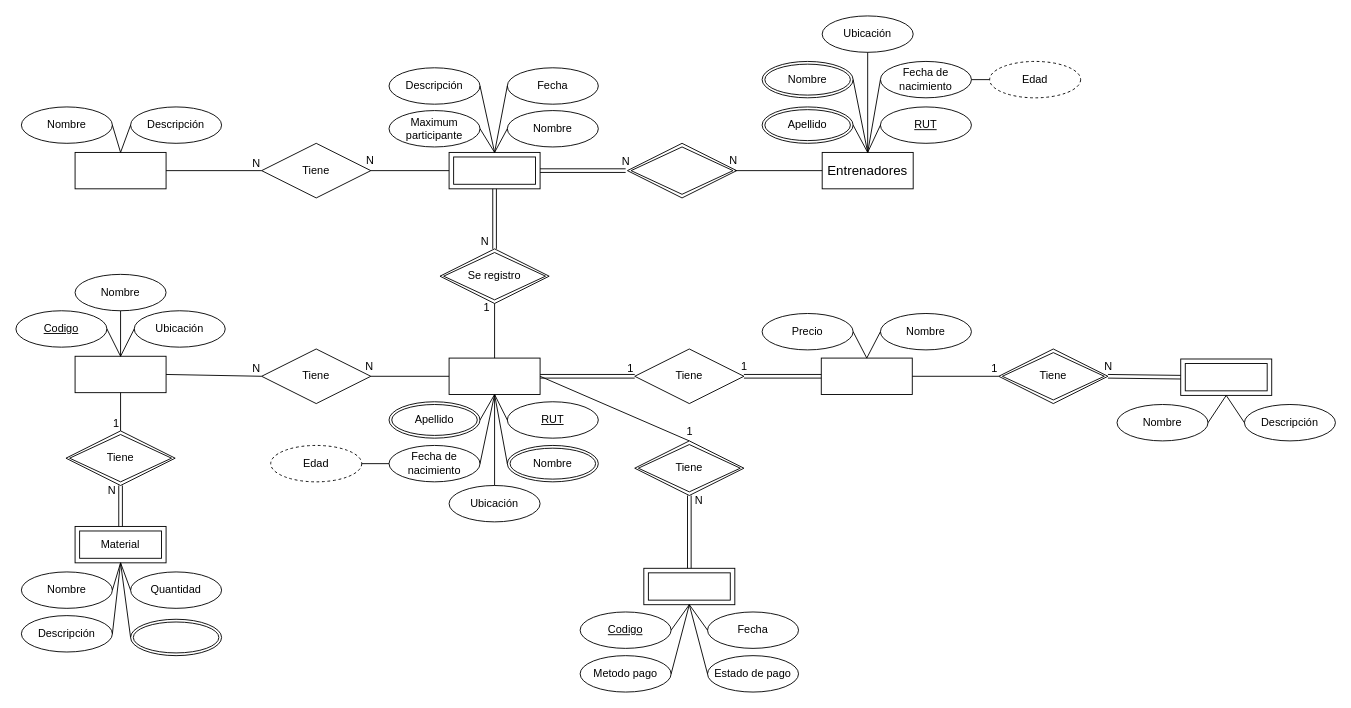
Some shapes in this 1351 by 708 pixel diagram are drawn without their labels. The shapes that lost their labels are listed below. From the top down, each one's centre as x and y in pixels, then its label:
At (120,170): "Tipo".
At (494,170): "Classe".
At (682,170): "Hace".
At (120,374): "Gimnasio".
At (494,375): "Cliente".
At (866,375): "Suscripción".
At (1226,376): "Opciones".
At (689,586): "Factura".
At (176,637): "URL Vídeo explicativo".
